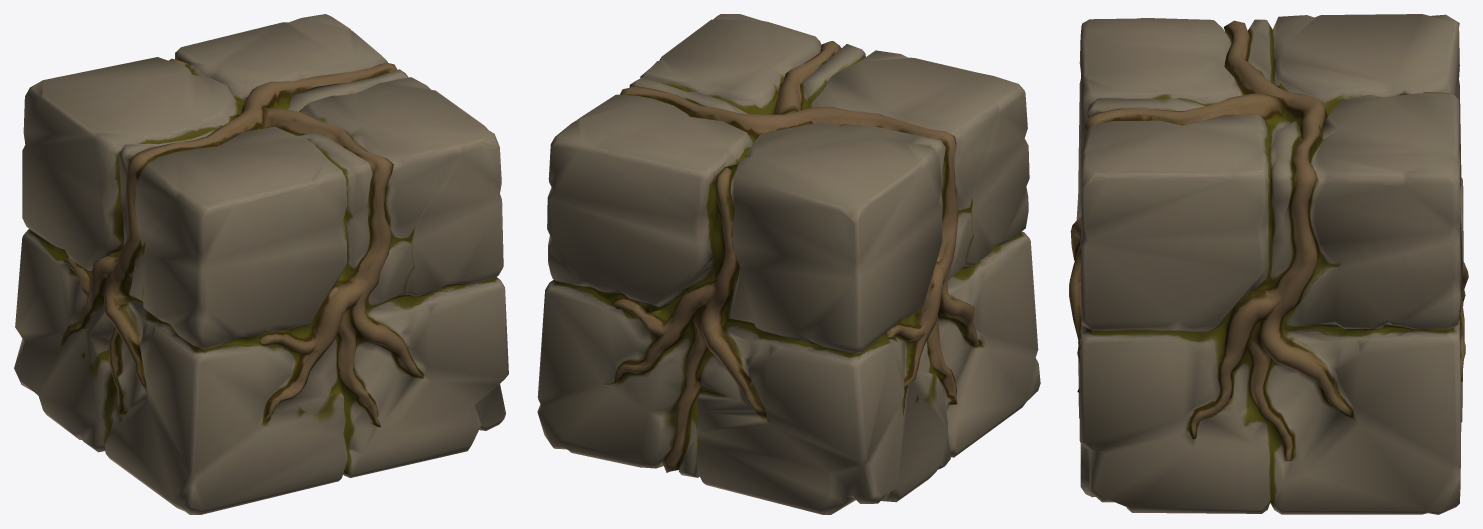
File: selected.glb
3 views of the same model, side by side, from view 1: azimuth 30°, elevation 25°; view 2: azimuth 150°, elevation 25°; view 3: azimuth 270°, elevation 25° (orthographic). The views are drawn at different scales.
Parts seen in each view (by area): view 1: tripo_node_b6f465cb-3418-4b1f-bc63-9793c0f7c683; view 2: tripo_node_b6f465cb-3418-4b1f-bc63-9793c0f7c683; view 3: tripo_node_b6f465cb-3418-4b1f-bc63-9793c0f7c683.
Part boxes in pixels (x1=…): tripo_node_b6f465cb-3418-4b1f-bc63-9793c0f7c683: x1=14, y1=14, x2=508, y2=514; tripo_node_b6f465cb-3418-4b1f-bc63-9793c0f7c683: x1=537, y1=14, x2=1040, y2=514; tripo_node_b6f465cb-3418-4b1f-bc63-9793c0f7c683: x1=1069, y1=14, x2=1468, y2=514.
Size of the model in its own units: 0.998 by 0.9082 by 0.9551.
Materials: 1 (1 with a texture image).
